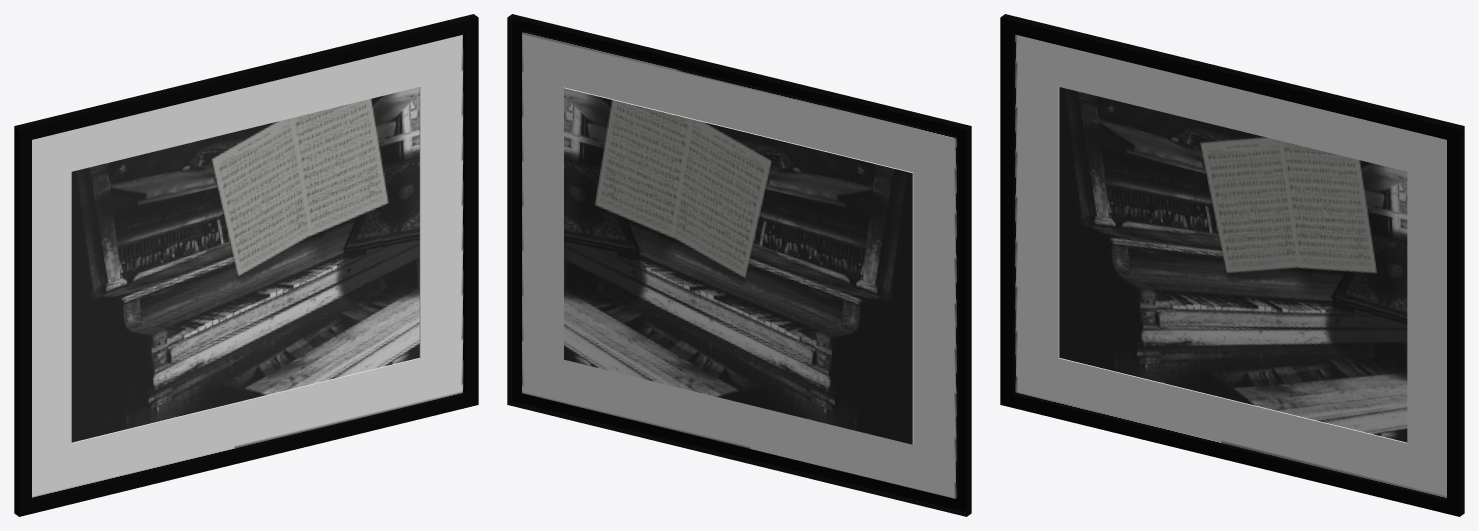
File: SSN_Frame_Photo06.fbx
3 renders of one model, left to right at view 1: azimuth 30°, elevation 25°; view 2: azimuth 150°, elevation 25°; view 3: azimuth 330°, elevation 25°, orthographic.
Visible parts, largest first — view 1: SSN_Frame_Photo06; view 2: SSN_Frame_Photo06; view 3: SSN_Frame_Photo06.
Boxes of the visible parts, x1,y1,x2,y2 form: SSN_Frame_Photo06: [14, 14, 478, 516]; SSN_Frame_Photo06: [507, 14, 971, 516]; SSN_Frame_Photo06: [1000, 14, 1464, 516].
Bounding box in the file's own units: 1.08 × 0.87 × 0.02.
